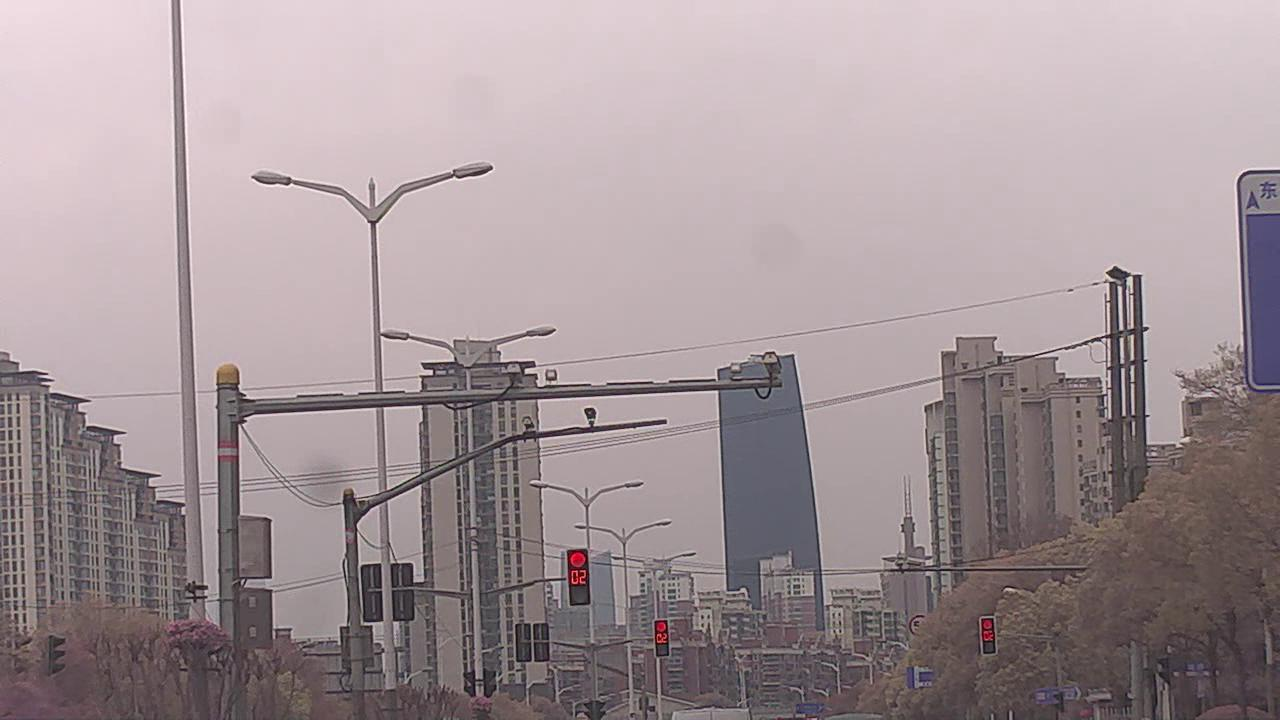traffic_light: (569, 548, 592, 608), (979, 613, 998, 657), (655, 620, 671, 656)
